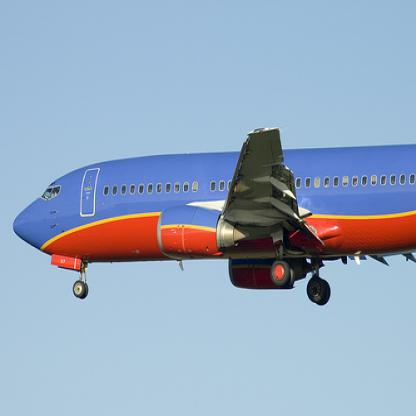aeroplane: (12, 127, 415, 306)
